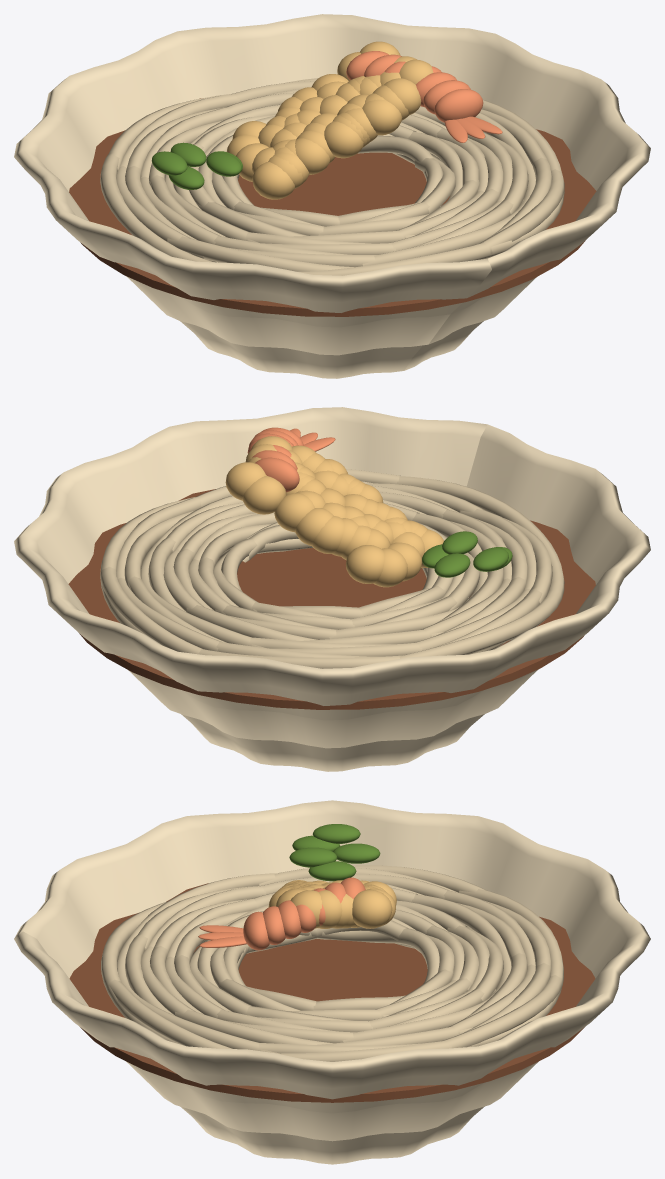
Rendered from 44-soba.glb.
3 views of the same model, one above another, from view 1: azimuth 30°, elevation 25°; view 2: azimuth 150°, elevation 25°; view 3: azimuth 270°, elevation 25° (orthographic).
Parts seen in each view (by area): view 1: 새우튀김 메밀소바; view 2: 새우튀김 메밀소바; view 3: 새우튀김 메밀소바.
Boxes of the visible parts, x1,y1,x2,y2 form: 새우튀김 메밀소바: (14, 14, 650, 378); 새우튀김 메밀소바: (14, 407, 650, 771); 새우튀김 메밀소바: (14, 800, 650, 1164).
Bounding box in the file's own units: 1.85 × 0.791 × 1.85.
